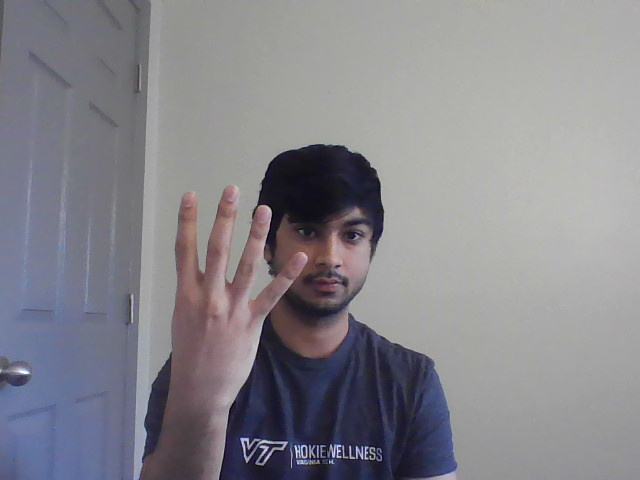four: (162, 179, 309, 388)
